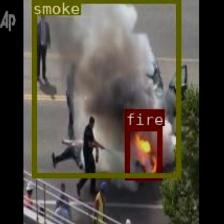fire: (124, 126, 162, 178)
smoke: (31, 0, 180, 177)
